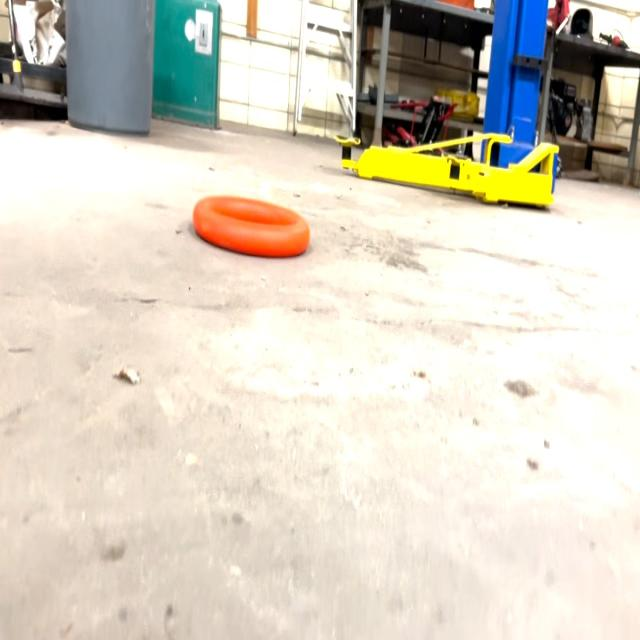note: (190, 183, 312, 259)
